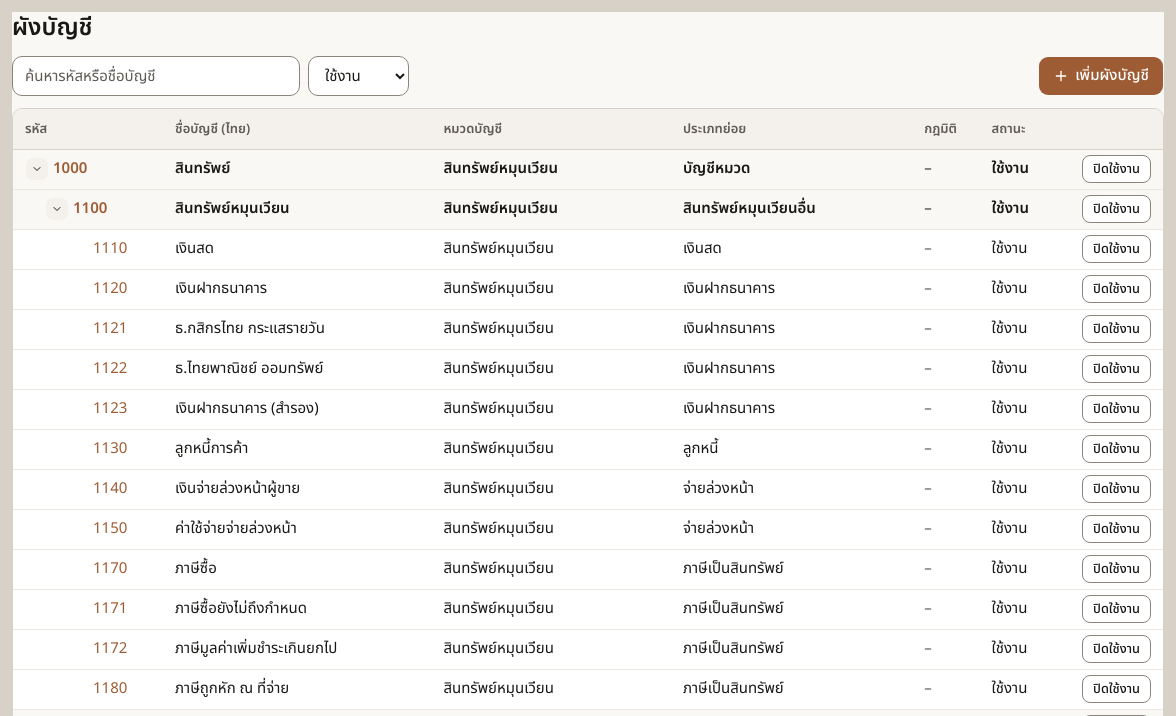
Test: TreeRecordList › renders the chart as a tree: header rows bold, collapse hides the sub-accounts, expand brings them back
This screenshot has width=1176, height=716.
Expected: the row "1130 " is shown, [13,429,1163,469]
Step 1. Click the button named "ย่อ 1100" → x=57, y=209, box [45,197,69,221]
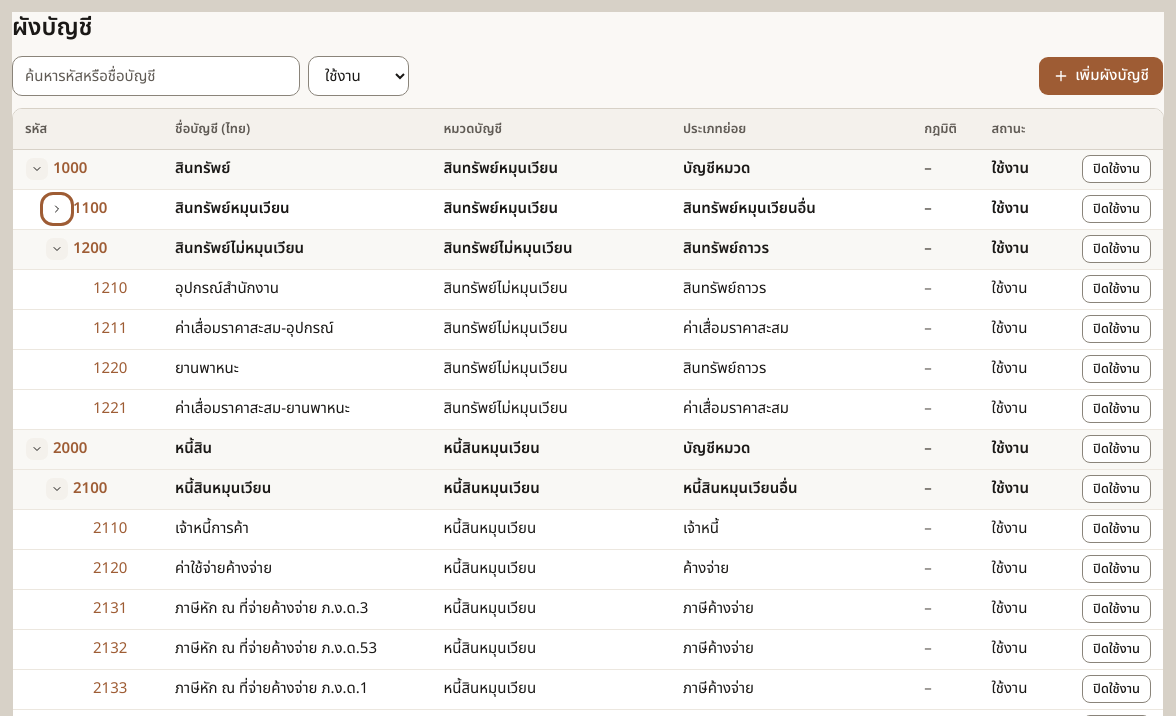
Expected: the row "1100 " is shown, [13,189,1163,229]
Result: the button "1130 " is gone
Step 2. Click the button named "ขยาย 1100" → x=57, y=209, box [45,197,69,221]
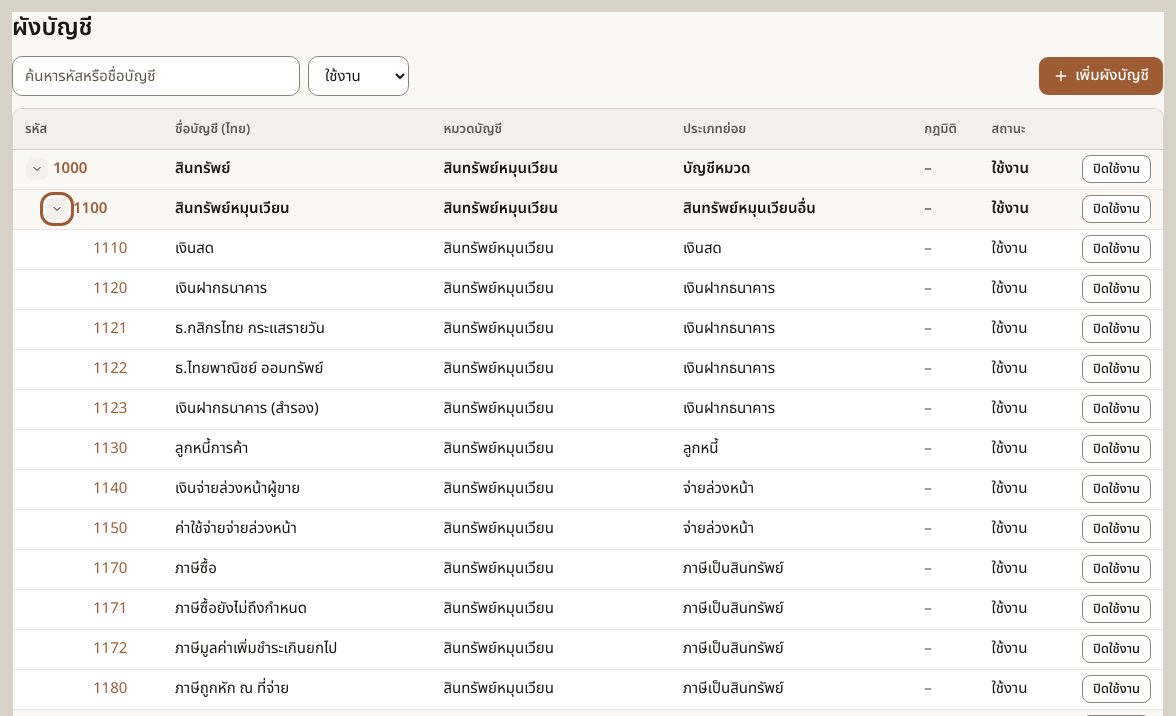
Result: the row "1130 " is shown at [13,429,1163,469]
